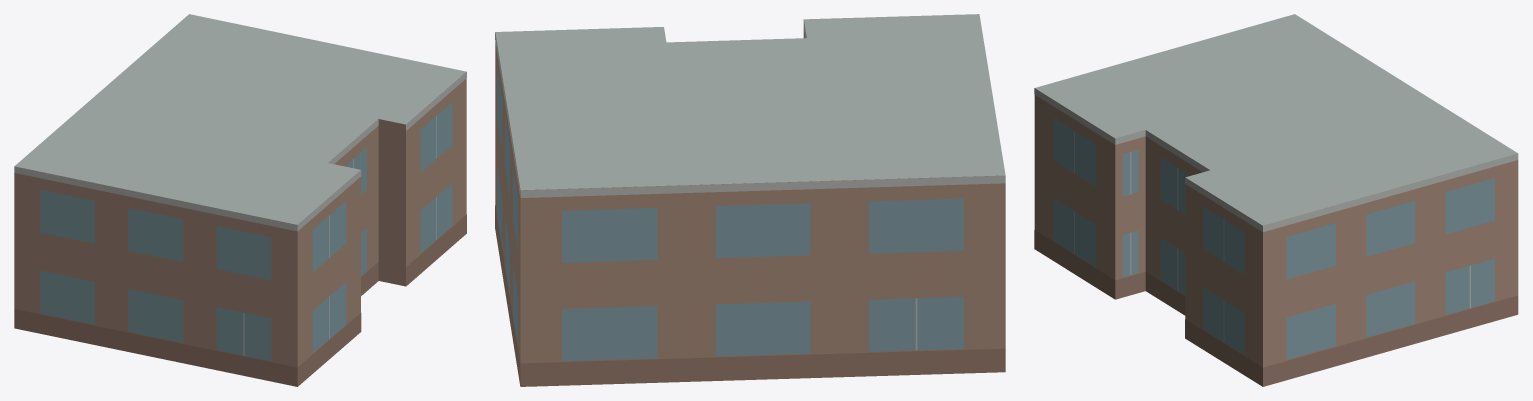
The model's file is survey-upis-32686382.glb.
3 views of the same model, side by side, from view 1: azimuth 30°, elevation 25°; view 2: azimuth 150°, elevation 25°; view 3: azimuth 270°, elevation 25° (orthographic). The views are drawn at different scales.
Parts seen in each view (by area): view 1: survey-upis-32686382.tmp; view 2: survey-upis-32686382.tmp; view 3: survey-upis-32686382.tmp.
Boxes of the visible parts, left/top/right/bottom form: survey-upis-32686382.tmp: left=14, top=14, right=466, bottom=386; survey-upis-32686382.tmp: left=495, top=14, right=1005, bottom=386; survey-upis-32686382.tmp: left=1034, top=14, right=1518, bottom=386.
Bounding box in the file's own units: 17.21 × 6.1 × 16.61.
